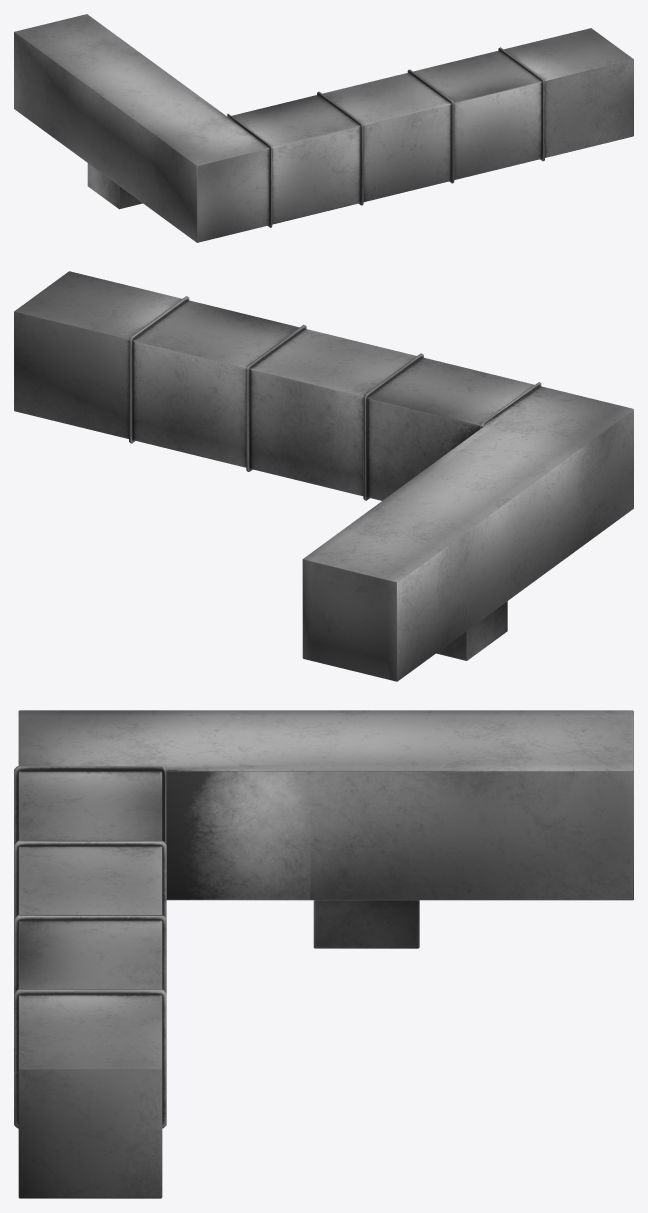
Rendered from ventilation.gltf.
3 views of the same model, one above another, from view 1: azimuth 30°, elevation 25°; view 2: azimuth 150°, elevation 25°; view 3: azimuth 270°, elevation 25° (orthographic). The views are drawn at different scales.
Parts seen in each view (by area): view 1: TF2_FS_Vents; view 2: TF2_FS_Vents; view 3: TF2_FS_Vents.
Boxes of the visible parts, box(x1,y1,x2,y2) form: TF2_FS_Vents: box(14, 14, 633, 242); TF2_FS_Vents: box(14, 271, 633, 681); TF2_FS_Vents: box(14, 710, 633, 1198).
Bounding box in the file's own units: 653 × 161 × 477.
1 material, 1 textured.
